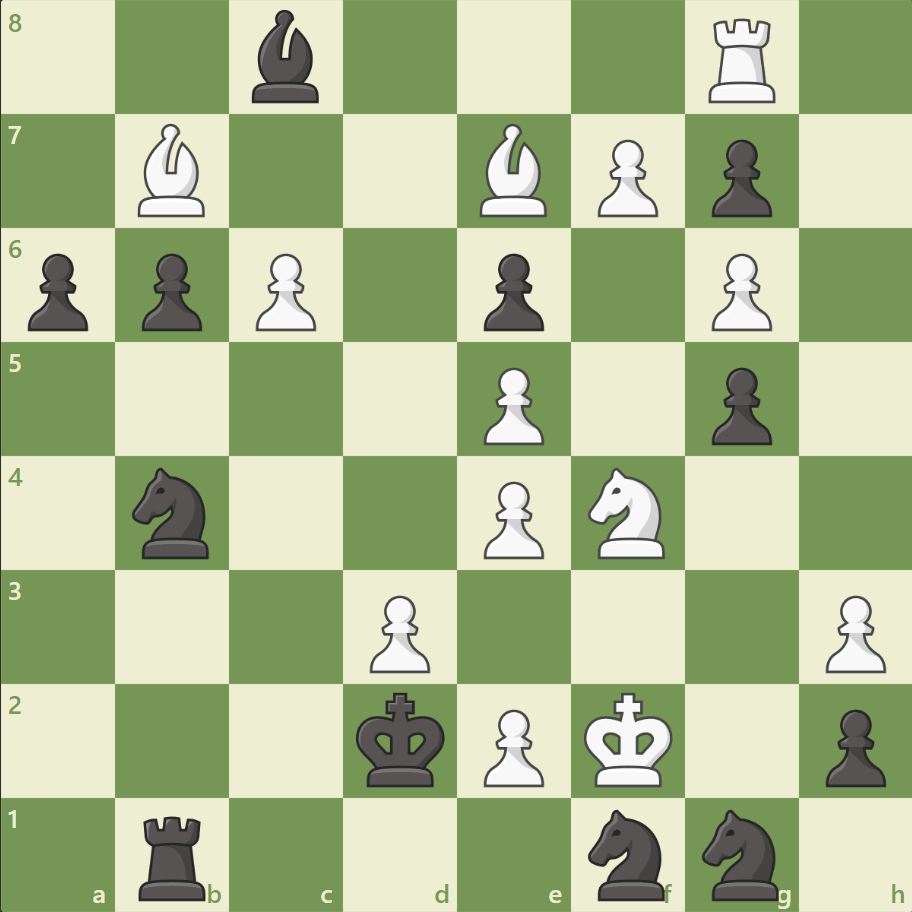B: (131, 120, 215, 222), (471, 120, 555, 222)
K: (579, 685, 679, 793)
N: (579, 461, 676, 564)
P: (247, 246, 322, 337), (701, 246, 776, 337), (474, 359, 549, 450), (474, 473, 549, 564), (474, 700, 549, 791), (588, 132, 662, 223), (361, 586, 435, 677), (815, 586, 889, 677)
R: (700, 12, 783, 109)
b: (244, 6, 328, 109)
k: (351, 685, 451, 793)
n: (124, 461, 222, 564), (579, 802, 676, 904), (692, 802, 789, 904)
p: (701, 132, 776, 223), (20, 246, 95, 337), (133, 246, 208, 337), (474, 246, 549, 337), (701, 359, 776, 450), (815, 700, 889, 791)
r: (133, 806, 215, 904)
